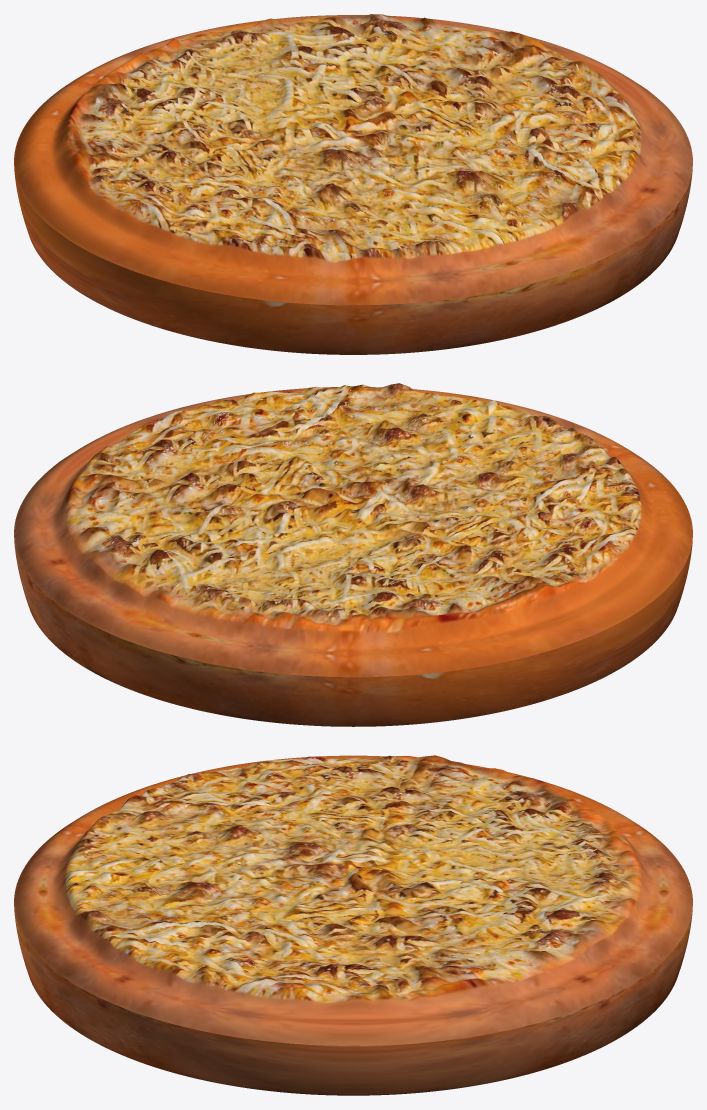
File: strogonoff-carne.glb
The picture shows the model from 3 angles, top to bottom: view 1: azimuth 30°, elevation 25°; view 2: azimuth 150°, elevation 25°; view 3: azimuth 270°, elevation 25°; orthographic projection.
Parts seen in each view (by area): view 1: Strogonoff de Carne; view 2: Strogonoff de Carne; view 3: Strogonoff de Carne.
Boxes of the visible parts, x1,y1,x2,y2 form: Strogonoff de Carne: (14, 14, 692, 354); Strogonoff de Carne: (14, 383, 692, 726); Strogonoff de Carne: (14, 755, 692, 1095).
Bounding box in the file's own units: 0.36 × 0.0545 × 0.36.
2 materials, 2 textured.
